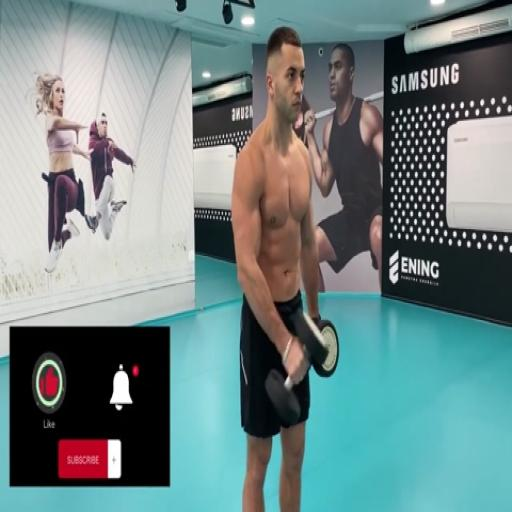exercise: (228, 24, 334, 511), (301, 41, 385, 297), (31, 70, 96, 276), (83, 110, 138, 244)
